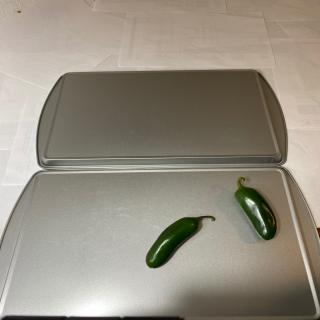Chilli: (145, 215, 215, 269)
Tomato: (234, 177, 277, 240)
